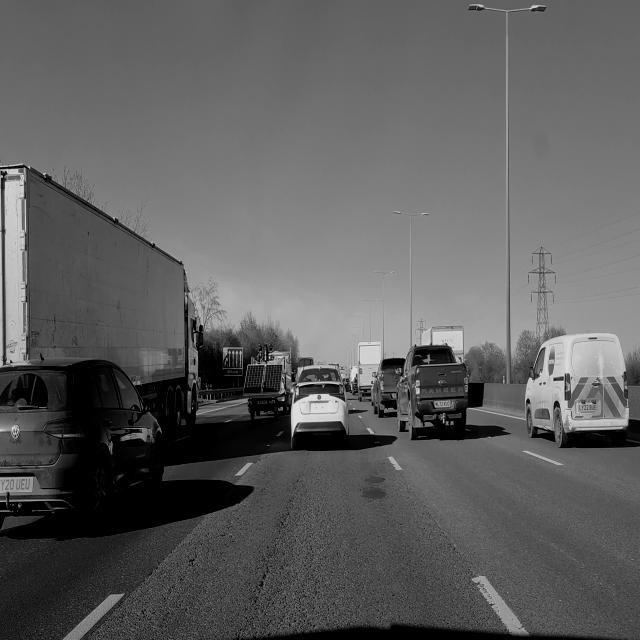car: (0, 358, 163, 533), (525, 334, 629, 447), (396, 342, 470, 445), (291, 366, 348, 450)
